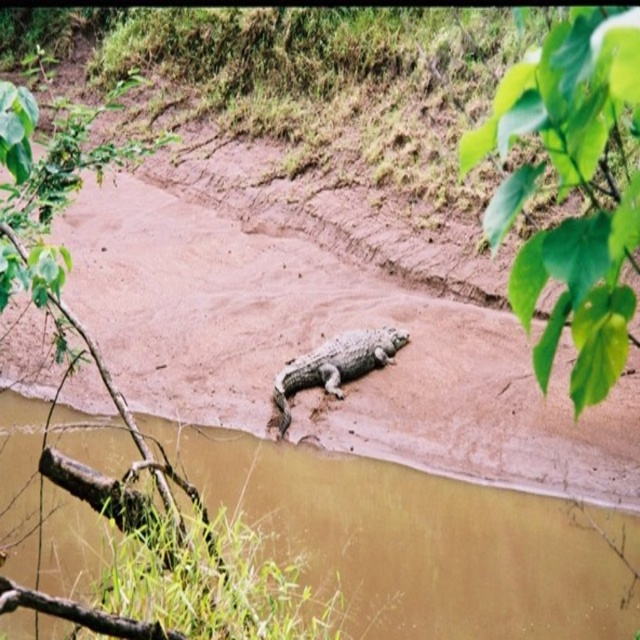Crocodile: (274, 330, 410, 432)
